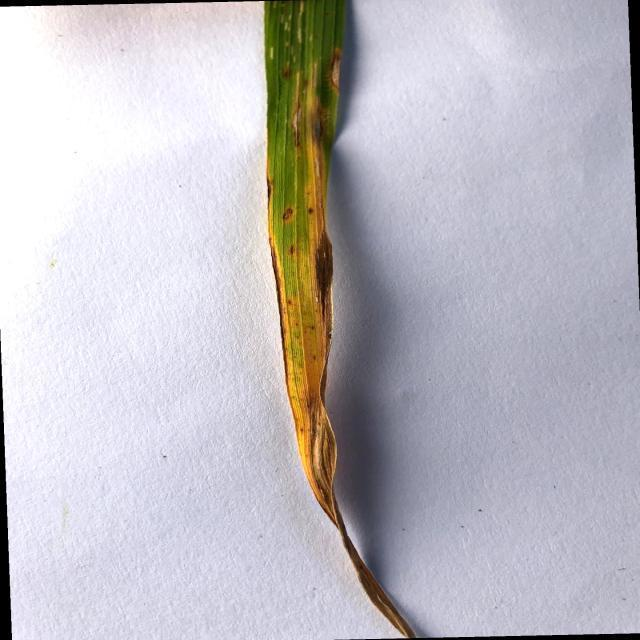Rice Tungro: (260, 50, 422, 640)
